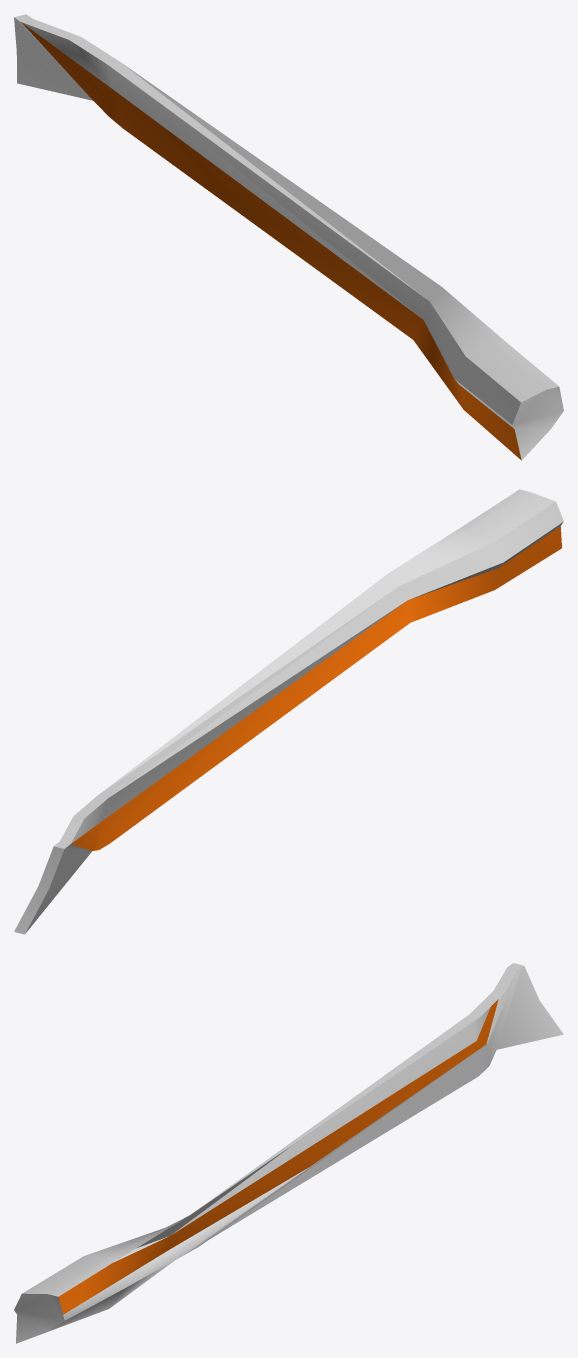
The model's file is Muscle_2_Sidepanel_3_L.fbx.
3 renders of one model, top to bottom at view 1: azimuth 30°, elevation 25°; view 2: azimuth 150°, elevation 25°; view 3: azimuth 330°, elevation 25°, orthographic. The views are drawn at different scales.
Visible parts, largest first — view 1: Muscle_2_Sidepanel_3_L; view 2: Muscle_2_Sidepanel_3_L; view 3: Muscle_2_Sidepanel_3_L.
Part boxes in pixels (x1=…): Muscle_2_Sidepanel_3_L: x1=14, y1=14, x2=563, y2=460; Muscle_2_Sidepanel_3_L: x1=14, y1=489, x2=563, y2=934; Muscle_2_Sidepanel_3_L: x1=14, y1=963, x2=563, y2=1343.
Size of the model in its own units: 14.5 by 18.7 by 185.
